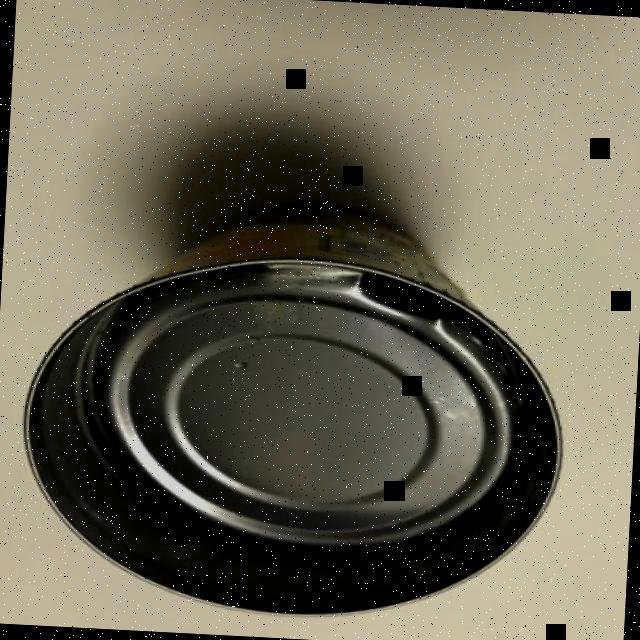can: (7, 182, 580, 635)
